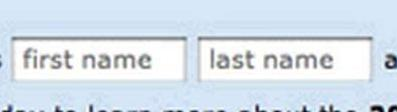field: (7, 35, 188, 85), (196, 34, 373, 85)
